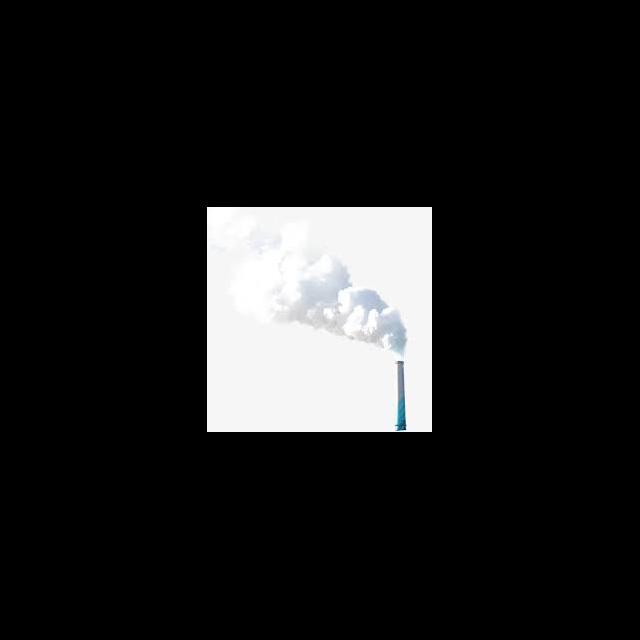Smoke: (255, 240, 408, 354)
